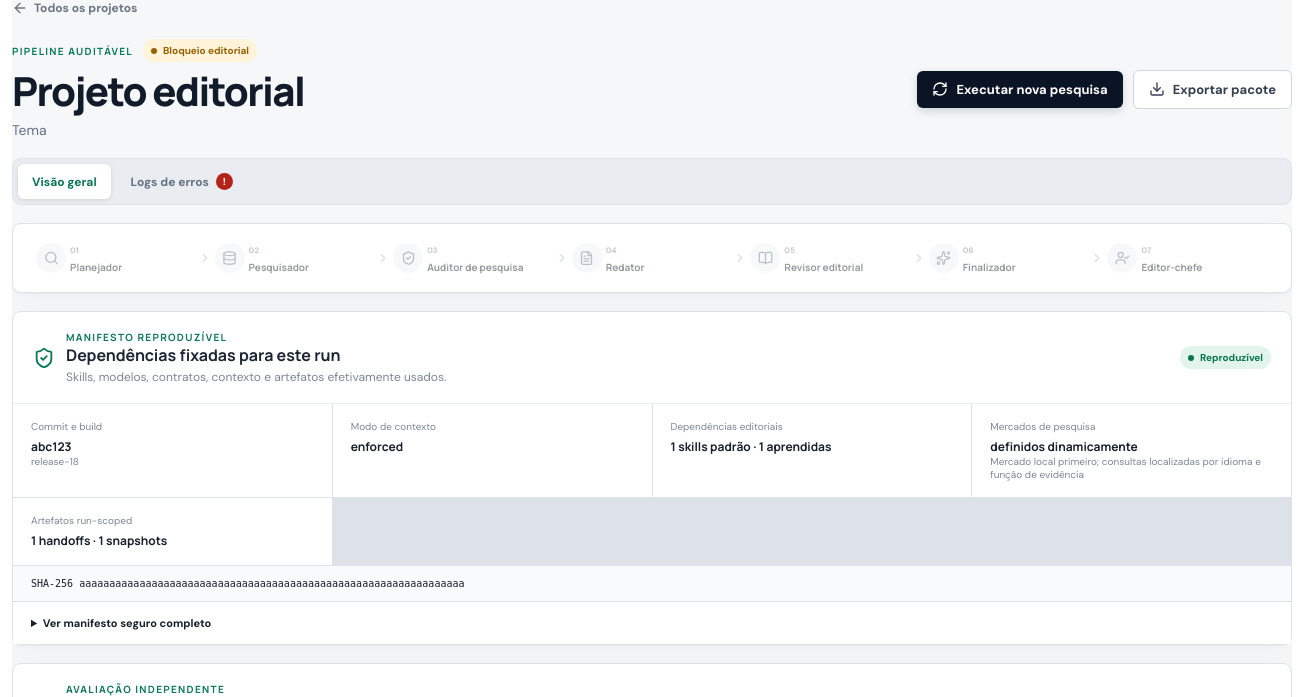
it: Pipeline editorial export › starts one clean rerun with an idempotency key and selects it
This screenshot has width=1304, height=697.
Click the button "Executar nova pesquisa".
click(1020, 89)  # box [918, 70, 1123, 108]
(page scrolled)
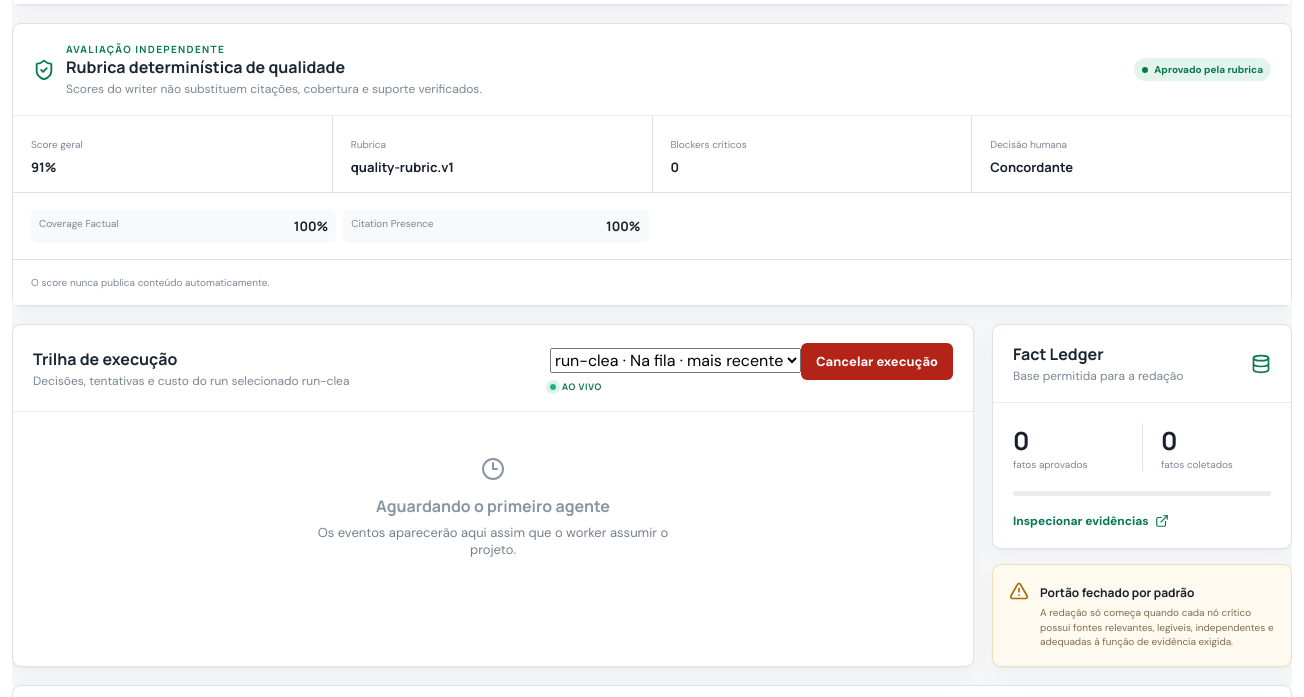
Expected: the dropdown named "Execução do pipeline" shows "run-clea · Na fila · mais recente", [550, 348, 801, 373]
Expected: the button "Executar nova pesquisa" is gone
